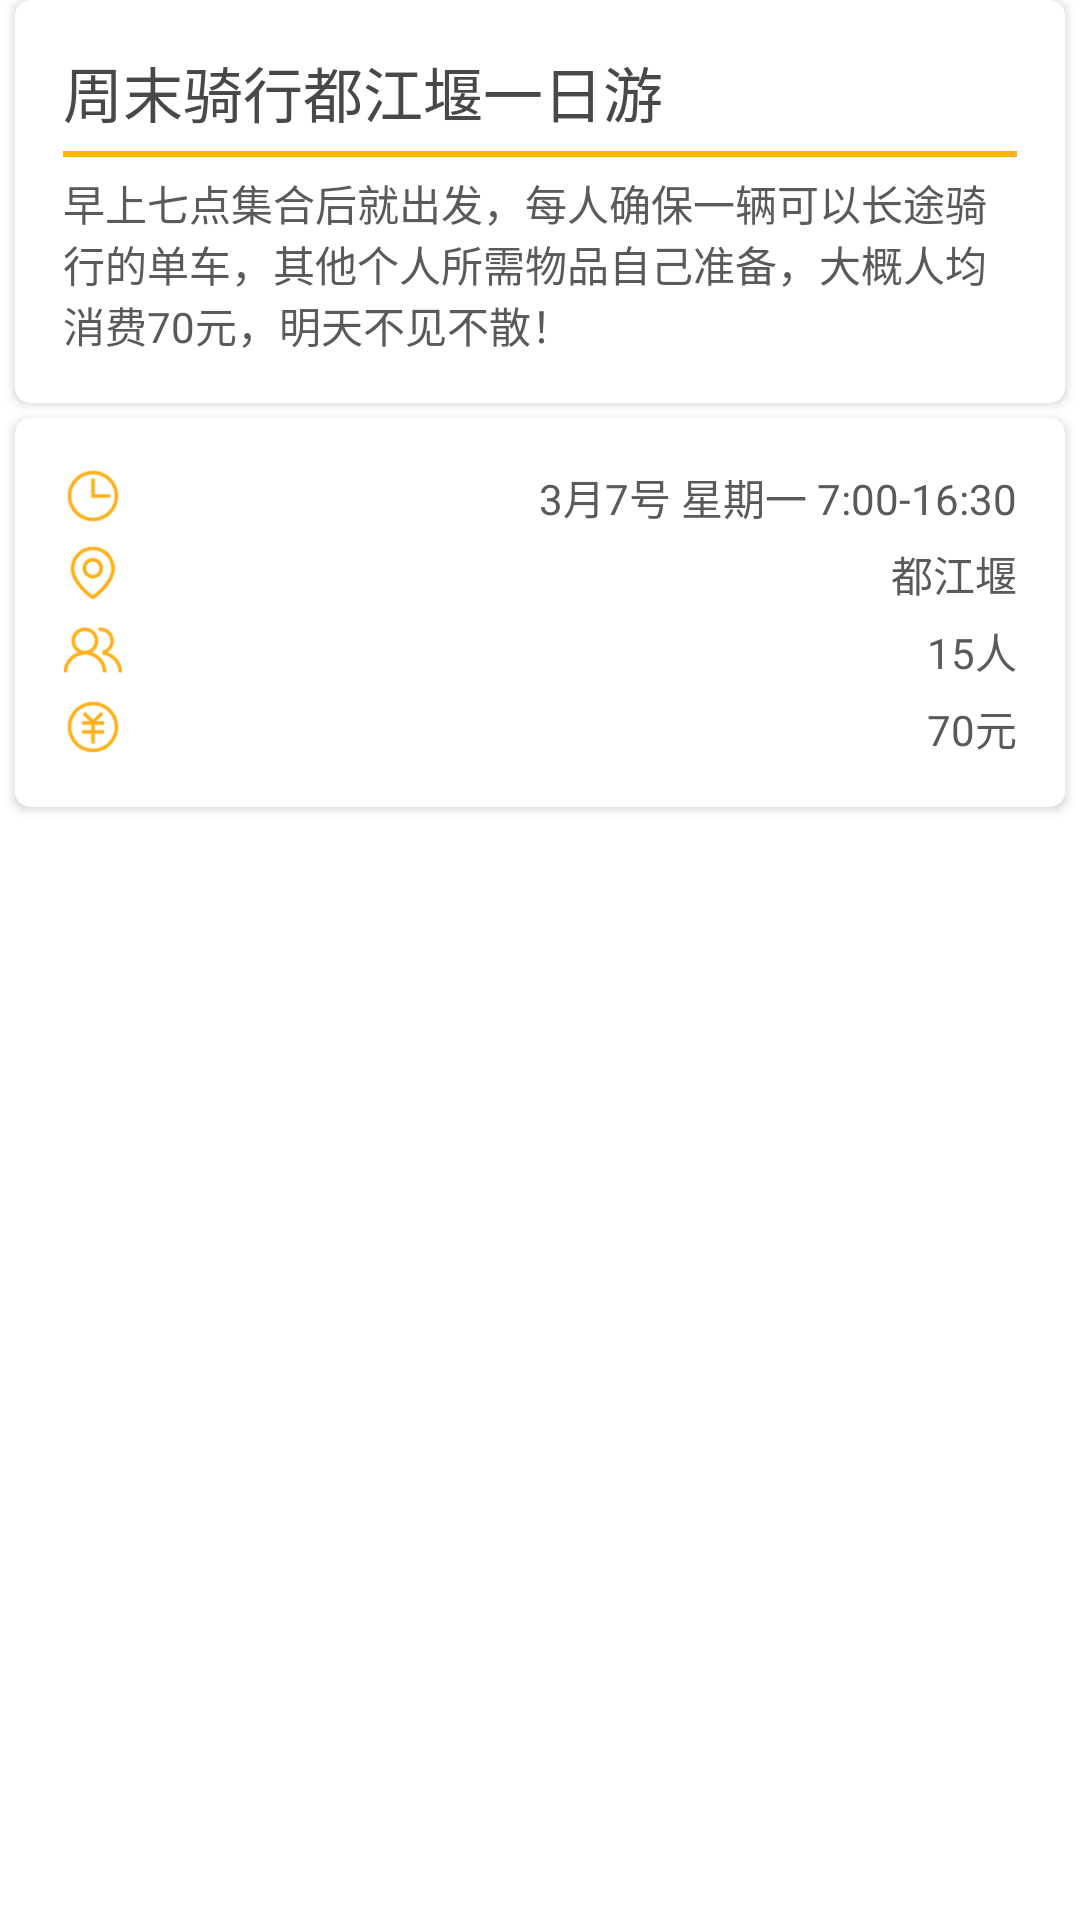

Locate icon controls on the screen. Image size 1080 x 1920, boxes as bbox=(x1, y1, x2, y2).
location: bbox=(70, 546, 116, 600)
money: bbox=(67, 701, 119, 753)
people: bbox=(64, 627, 122, 673)
time: bbox=(67, 470, 119, 522)
